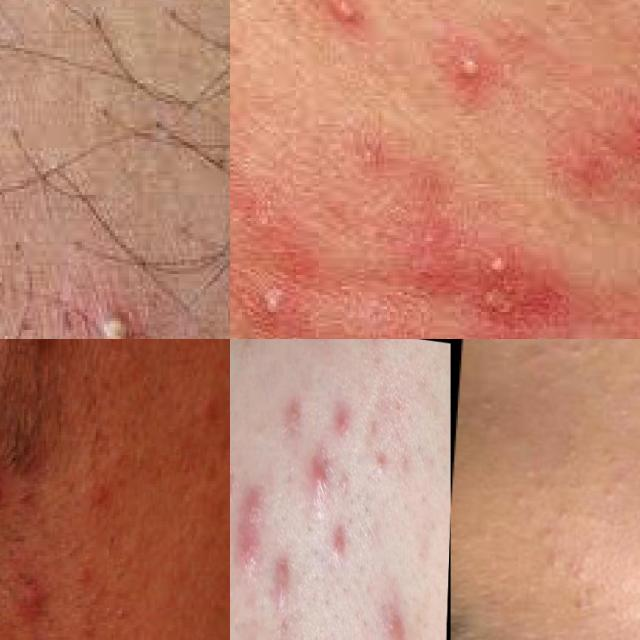comedone: (527, 548, 621, 605), (597, 474, 640, 518), (548, 339, 605, 370)
papule: (311, 446, 341, 496), (272, 550, 300, 602), (336, 380, 356, 445), (332, 519, 348, 577), (230, 454, 240, 511)
pustule: (438, 30, 504, 113), (76, 288, 151, 339), (251, 272, 296, 335), (475, 238, 518, 292), (321, 0, 367, 44)
sebo-crystan-conglo: (235, 477, 266, 598)
